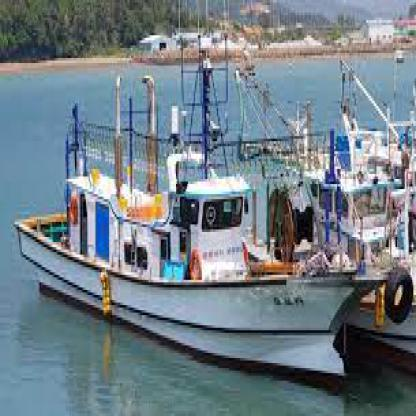fish-b: (11, 33, 393, 403)
